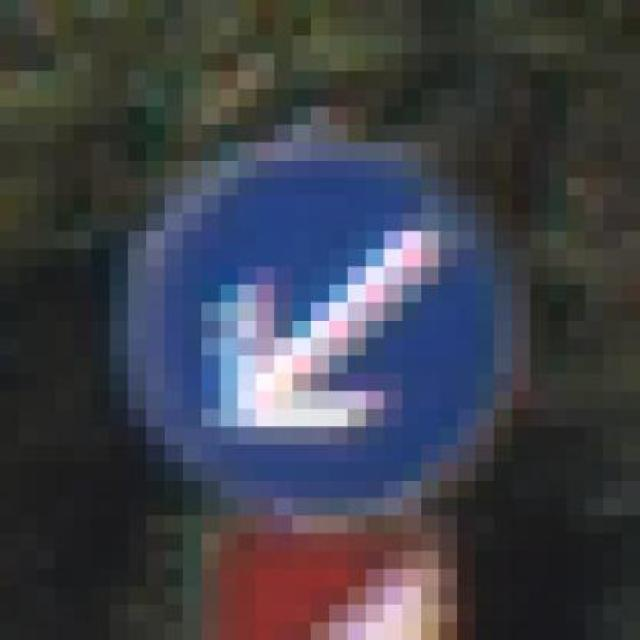Keep-Left: (110, 124, 548, 516)
